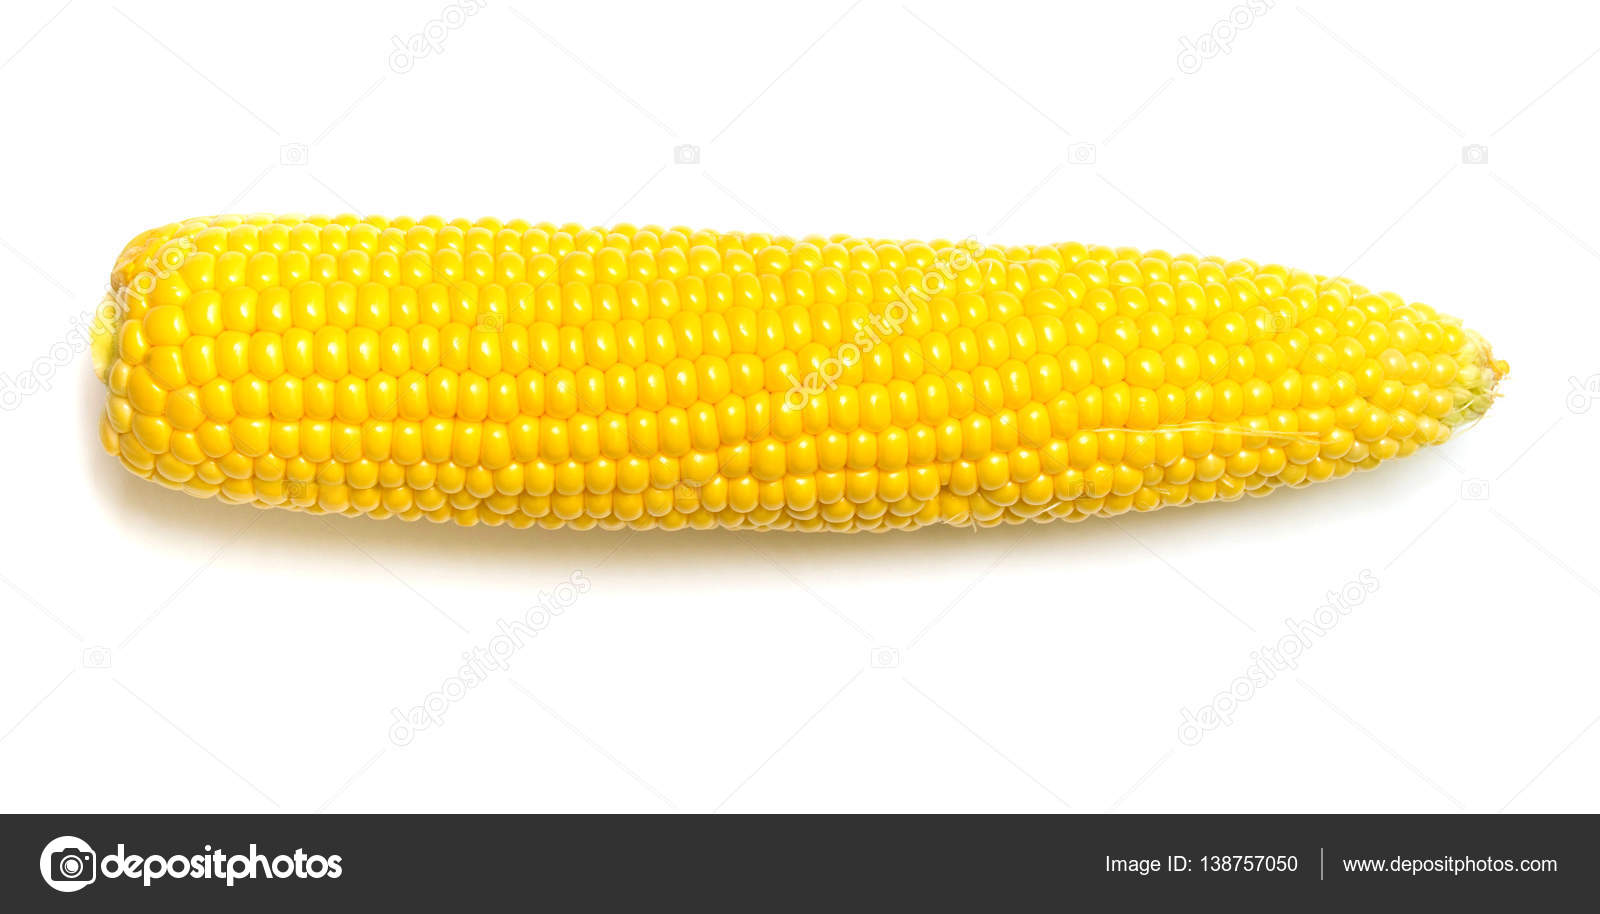corn: (66, 174, 1573, 593)
